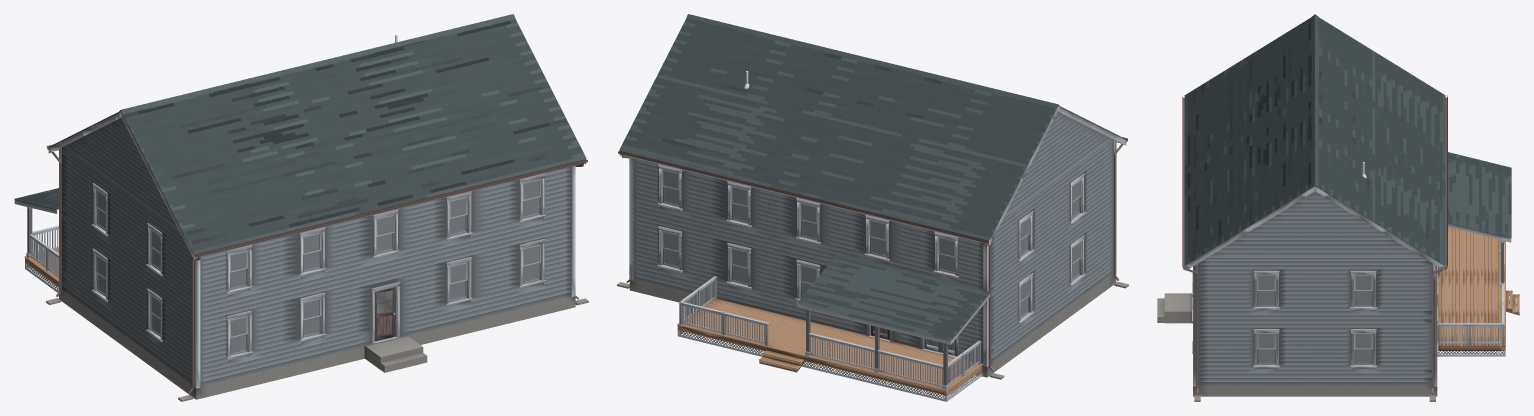
File: house.fbx
The picture shows the model from 3 angles, left to right: view 1: azimuth 30°, elevation 25°; view 2: azimuth 150°, elevation 25°; view 3: azimuth 270°, elevation 25°; orthographic projection. The views are drawn at different scales.
Parts seen in each view (by area): view 1: House; view 2: House; view 3: House.
Boxes of the visible parts, bbox=[...] form: House: bbox=[14, 14, 588, 401]; House: bbox=[617, 14, 1128, 401]; House: bbox=[1157, 14, 1519, 401].
Size of the model in its own units: 17.24 by 9.78 by 14.93.
